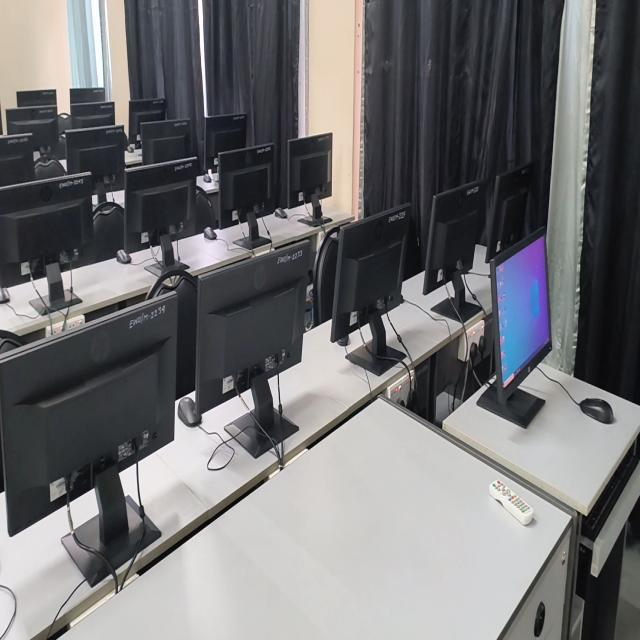Monitor: (0, 293, 179, 584), (195, 241, 310, 455), (330, 204, 410, 373), (0, 173, 94, 287), (423, 182, 485, 322), (496, 235, 549, 387), (124, 158, 197, 251), (219, 144, 275, 228), (485, 164, 531, 263), (65, 126, 127, 191), (287, 133, 332, 219), (6, 105, 59, 153), (203, 114, 246, 171), (140, 120, 193, 165), (128, 98, 166, 144), (71, 102, 115, 129), (16, 89, 56, 107), (70, 88, 105, 104)
Mouse: (578, 398, 614, 424), (177, 396, 201, 426), (116, 249, 131, 264), (0, 283, 10, 303), (204, 169, 216, 184), (204, 227, 217, 240), (274, 207, 288, 219), (127, 136, 135, 152)
